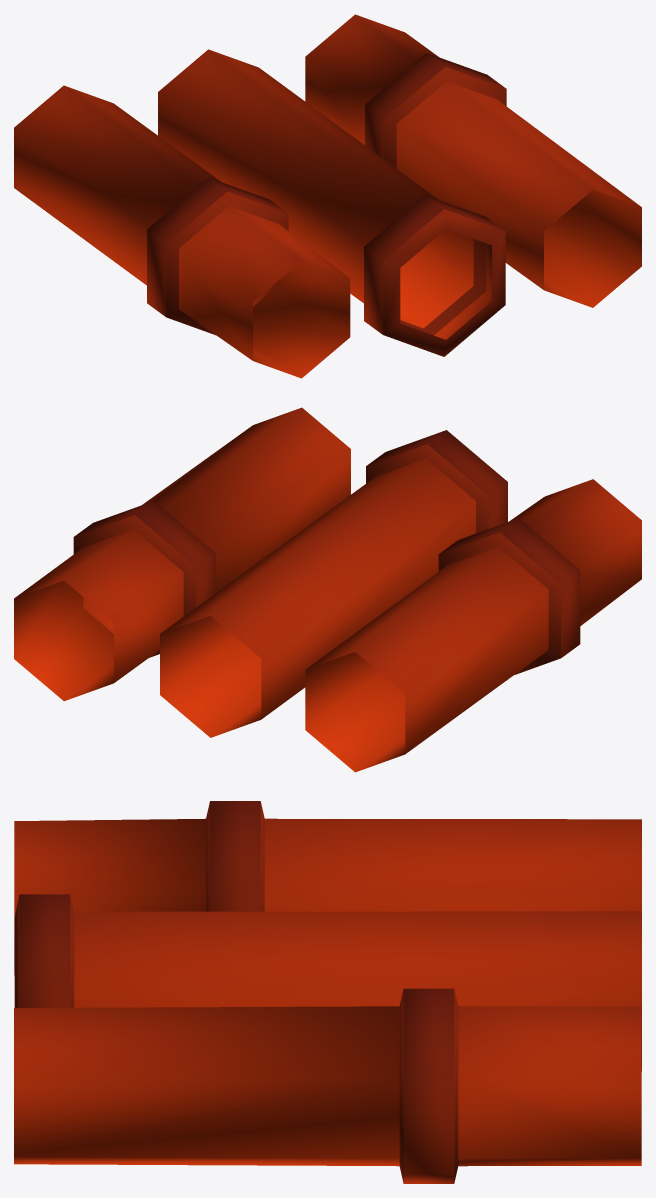
File: TuboGrosso.fbx
The picture shows the model from 3 angles, top to bottom: view 1: azimuth 30°, elevation 25°; view 2: azimuth 150°, elevation 25°; view 3: azimuth 270°, elevation 25°; orthographic projection. The views are drawn at different scales.
Parts seen in each view (by area): view 1: TuboGrosso; view 2: TuboGrosso; view 3: TuboGrosso.
Boxes of the visible parts, <box> form: TuboGrosso: <box>14,14,641,378</box>; TuboGrosso: <box>14,407,641,772</box>; TuboGrosso: <box>14,801,641,1183</box>.
Bounding box in the file's own units: 125 × 42.66 × 124.
